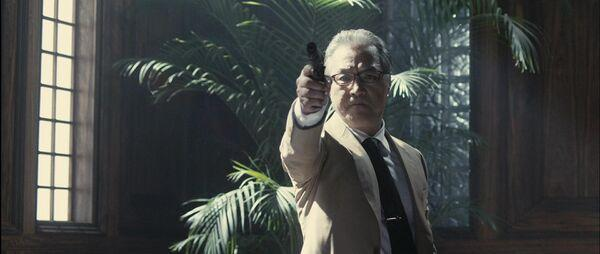Gun: (307, 41, 327, 83)
